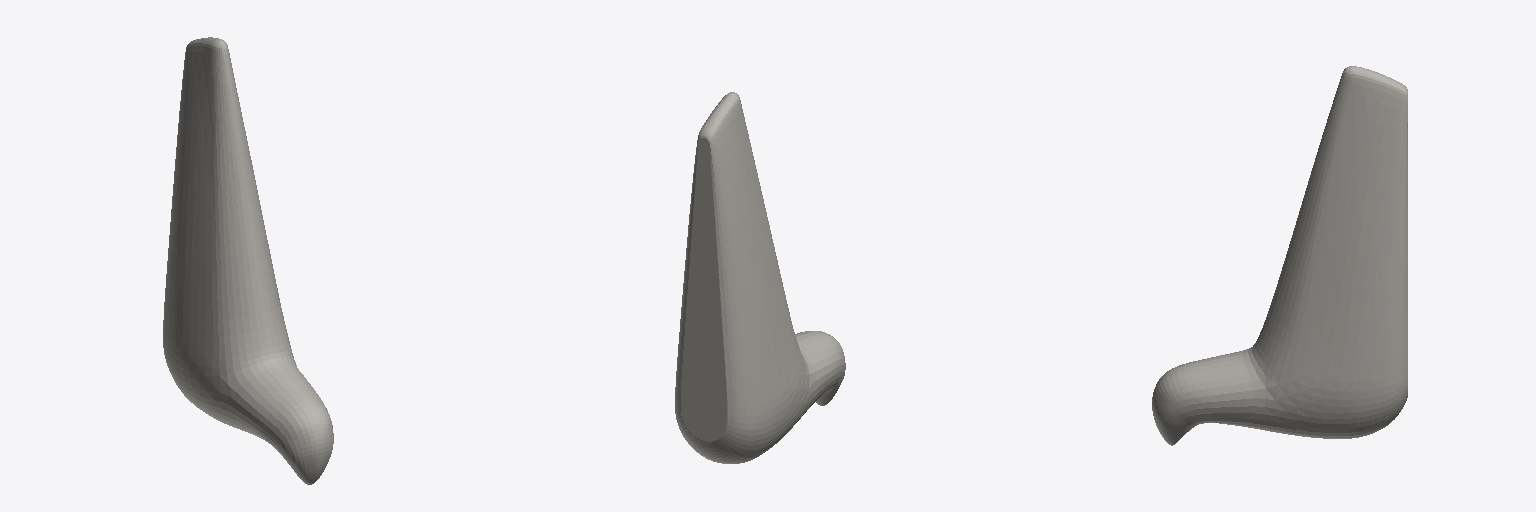
File: Vitra_LOiseau_mat(3).obj
The picture shows the model from 3 angles: view 1: azimuth 30°, elevation 25°; view 2: azimuth 150°, elevation 25°; view 3: azimuth 270°, elevation 25°; orthographic projection.
Visible parts, largest first — view 1: Vitra_LOiseau_mat3; view 2: Vitra_LOiseau_mat3; view 3: Vitra_LOiseau_mat3.
Part boxes in pixels (x1,y1,x2,y2): Vitra_LOiseau_mat3: (163,37,333,484); Vitra_LOiseau_mat3: (675,92,845,463); Vitra_LOiseau_mat3: (1152,66,1407,445).
Bounding box in the file's own units: 6 × 24.5 × 15.